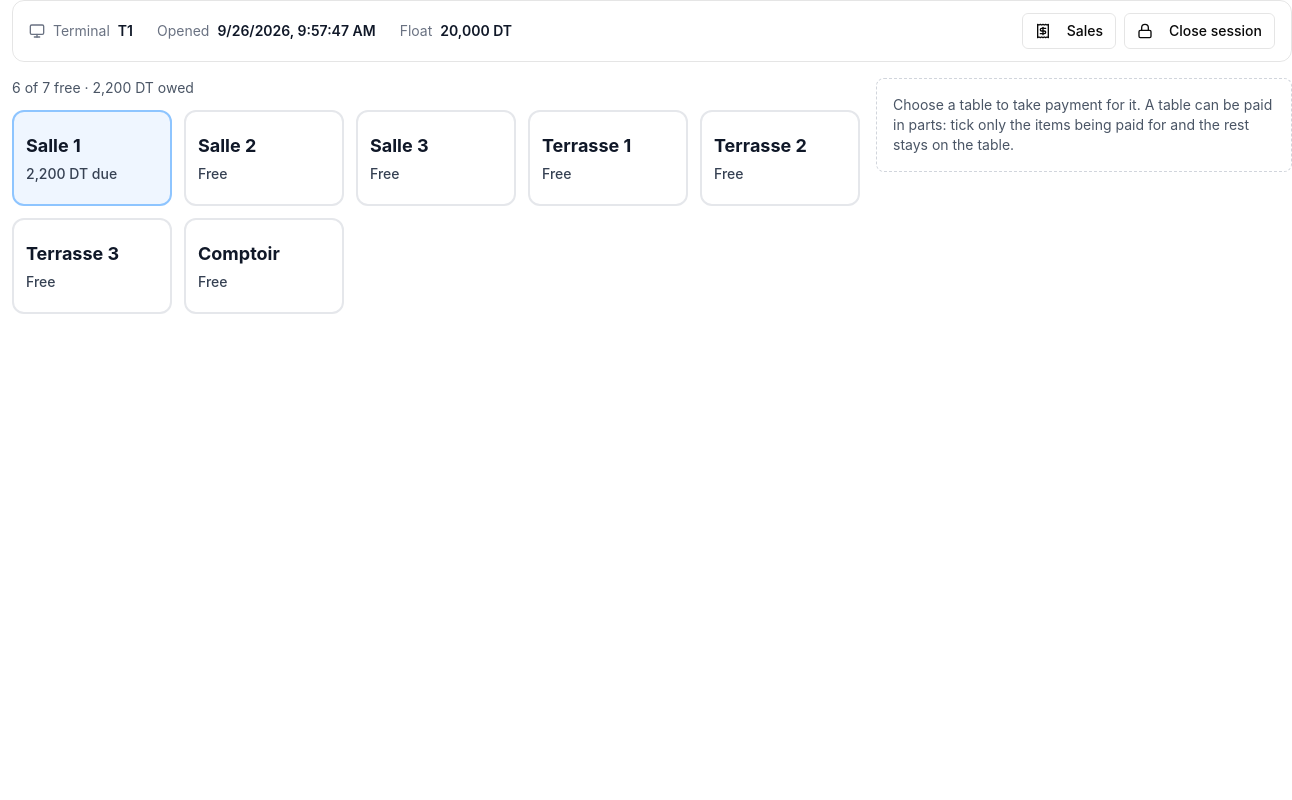
Test: paying a table › pays the whole table when everything is ticked
Click the button "Salle 1 2,200 DT due": (92, 158) left=12, top=110, right=172, bottom=206
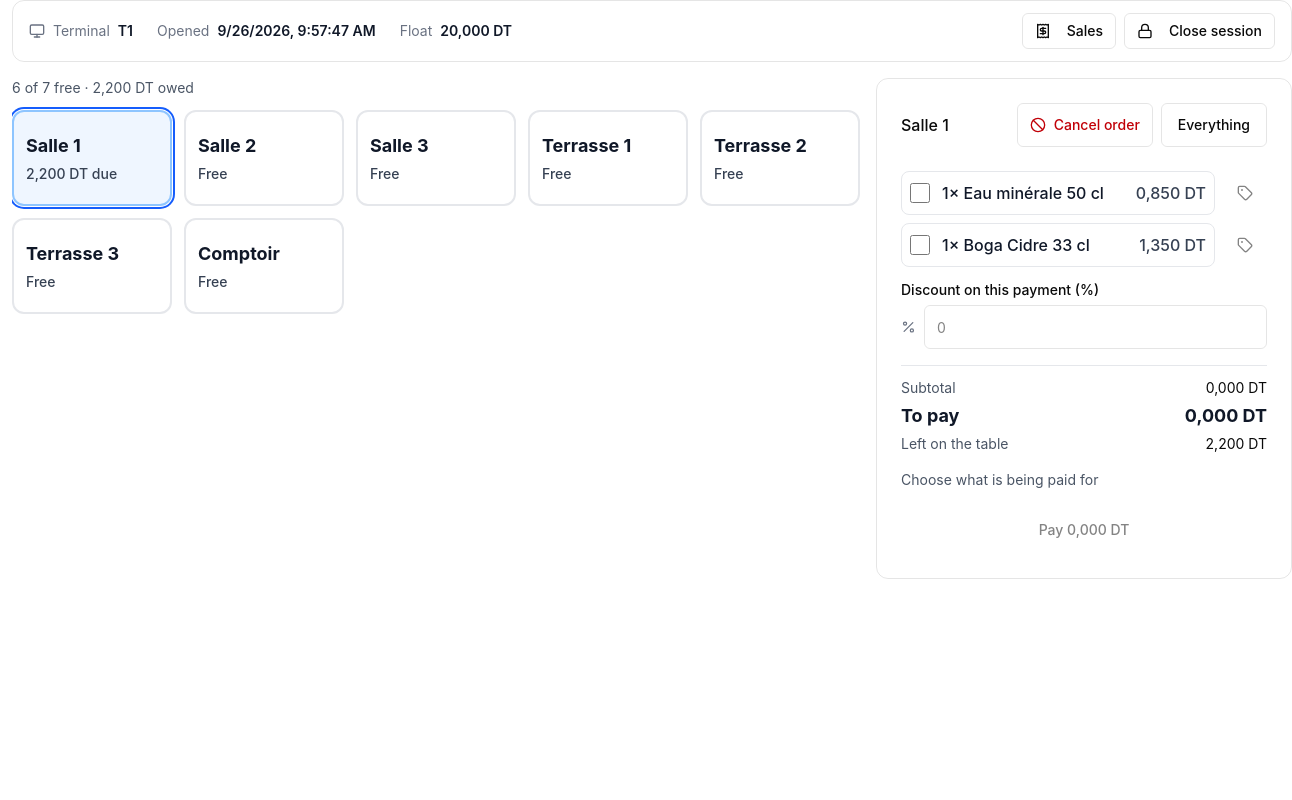
Click the button "Everything": (1214, 125) left=1161, top=103, right=1267, bottom=147
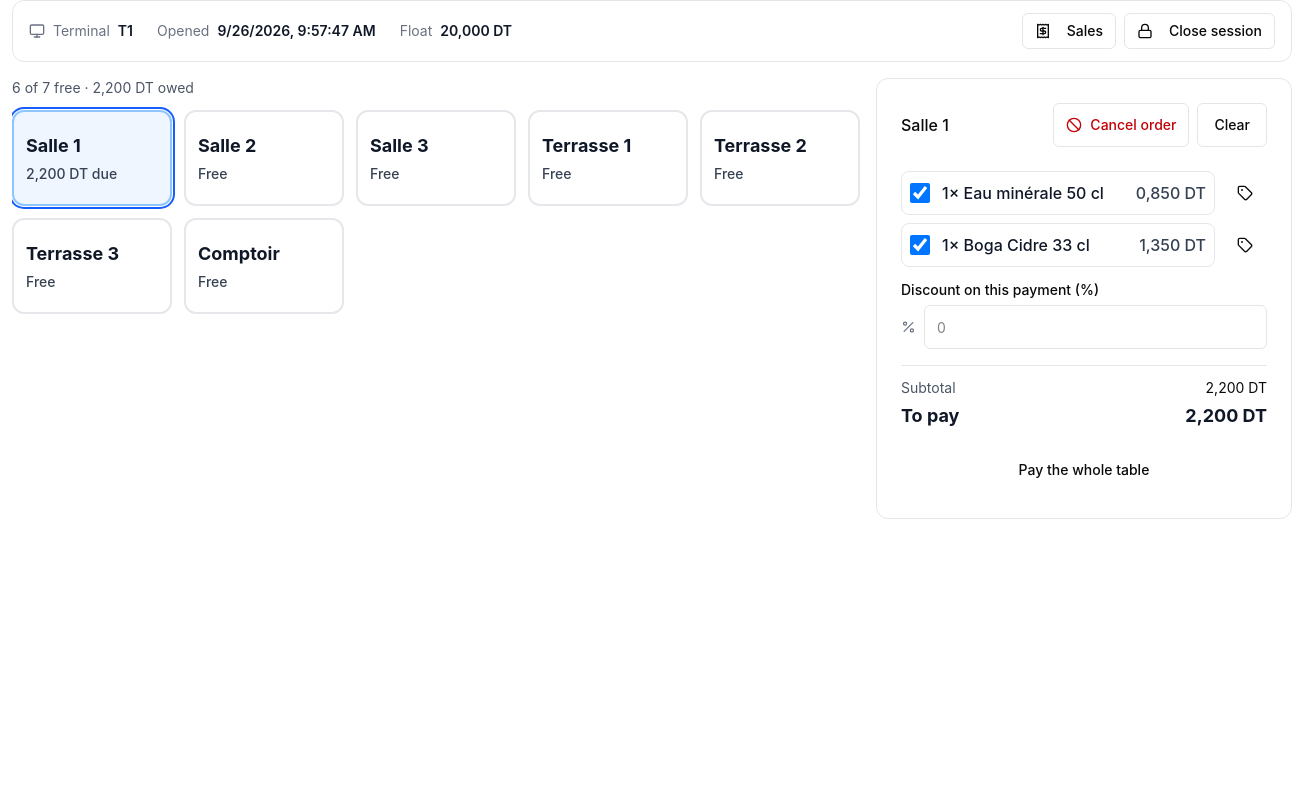
Check: the button "Pay the whole table" is shown, box left=901, top=446, right=1267, bottom=494
Check: the text "Left on the table" is gone
